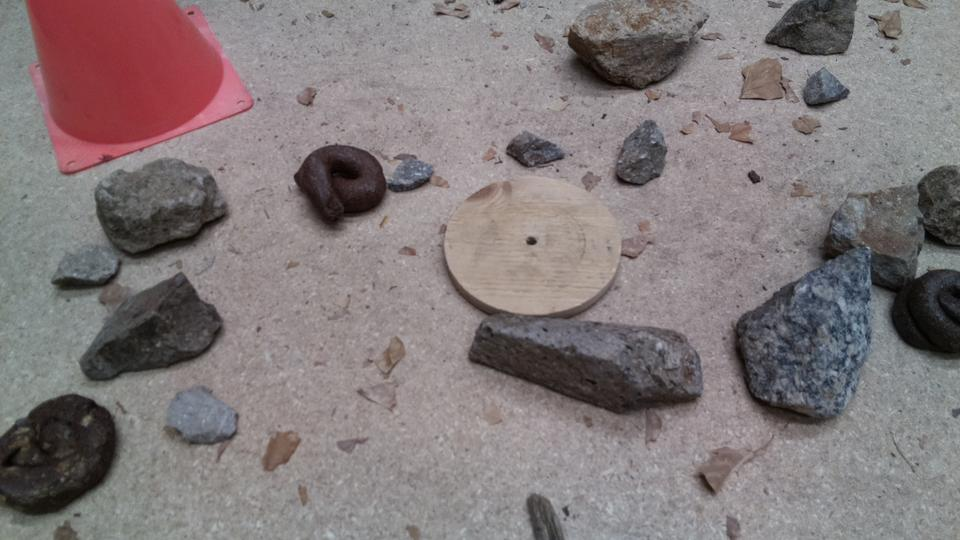poop: (1, 390, 120, 519), (290, 142, 387, 227), (889, 265, 960, 361)
